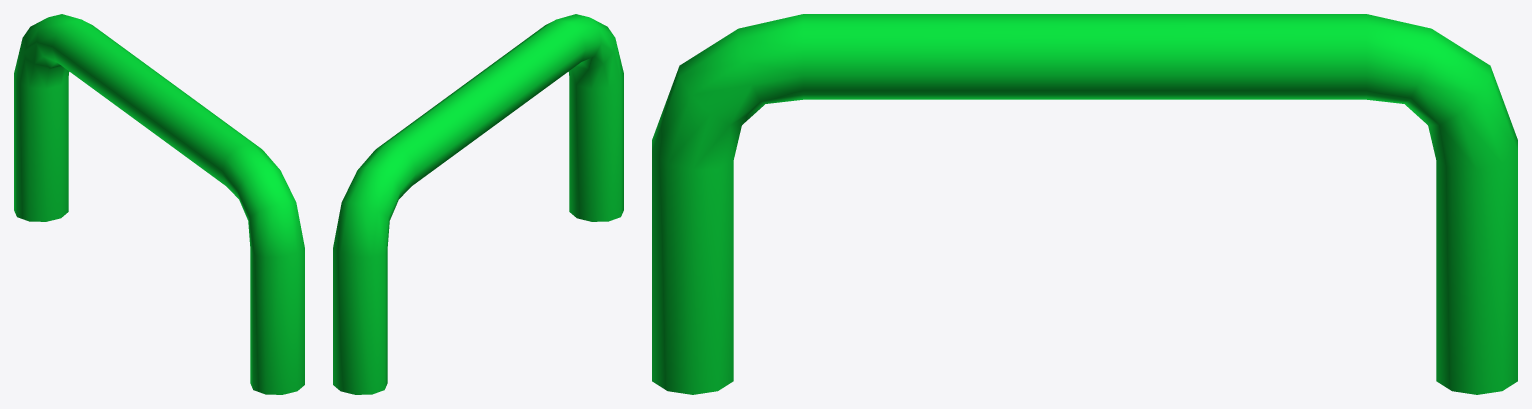
The model's file is Fence_03.fbx.
The picture shows the model from 3 angles, left to right: view 1: azimuth 30°, elevation 25°; view 2: azimuth 150°, elevation 25°; view 3: azimuth 270°, elevation 25°; orthographic projection. The views are drawn at different scales.
Parts seen in each view (by area): view 1: Fence_03; view 2: Fence_03; view 3: Fence_03.
Part boxes in pixels (box(x1,y1,x2,y2)): Fence_03: box(14, 14, 304, 394); Fence_03: box(333, 14, 623, 394); Fence_03: box(652, 14, 1517, 394).
Size of the model in its own units: 0.5433 by 2.28 by 5.04.
